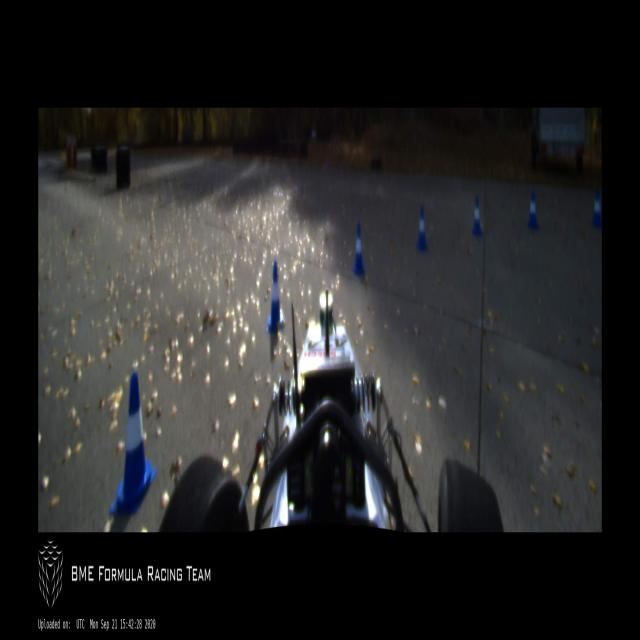blue_cone: (110, 372, 158, 514), (266, 262, 284, 334), (351, 222, 365, 272), (415, 206, 428, 252), (471, 196, 483, 236), (527, 191, 538, 227), (592, 190, 601, 228)
